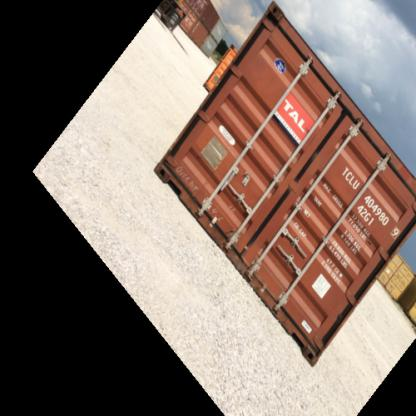Damage: (230, 239, 256, 269)
